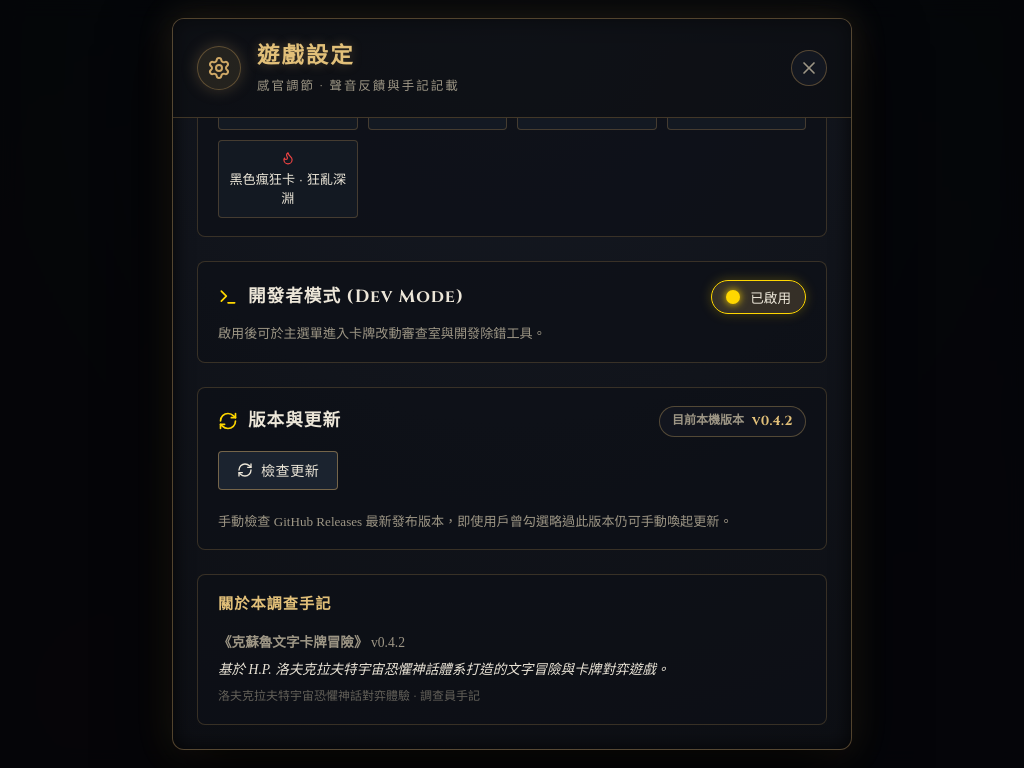
Test: SettingsModal - Version & Manual Update Check (ADR-0040 / #74) › displays clear error message when update check fails or network error occurs
The image size is (1024, 768).
(page scrolled)
What coordinates should you click on to do the following:
click the button "檢查更新"
I would click on:
 (278, 470)
Its box is [218,450,338,490].
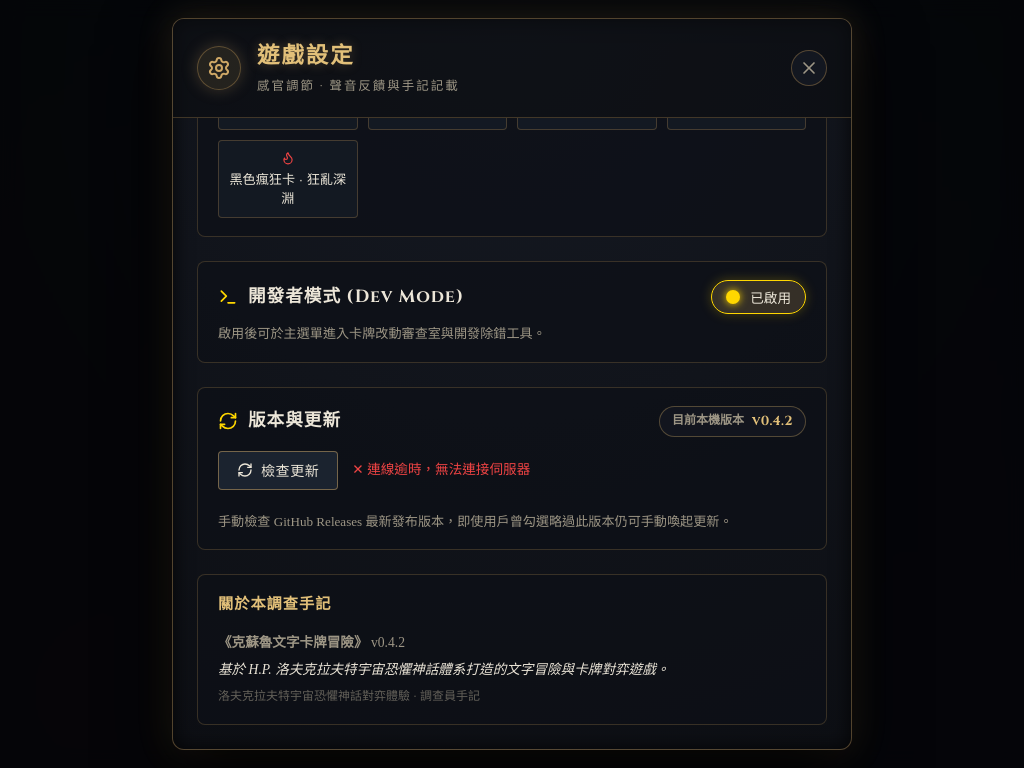
Result: the text "✕ 連線逾時，無法連接伺服器" is shown at [352,459,530,481]
